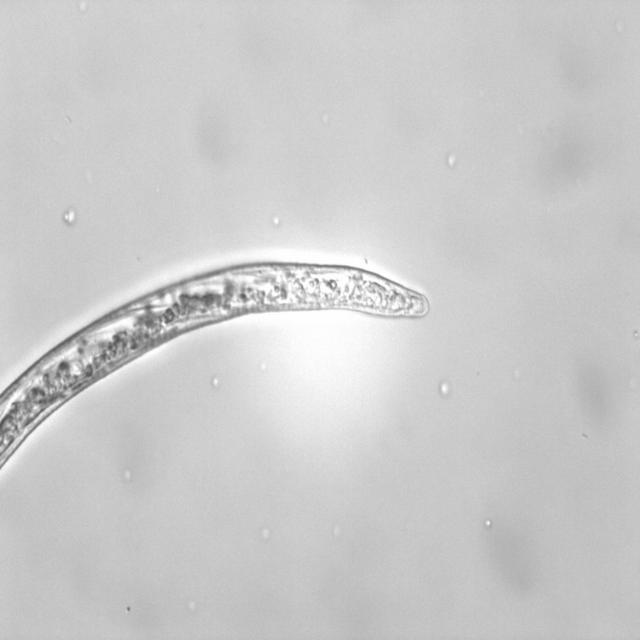Pratylenchus: (0, 258, 464, 481)
